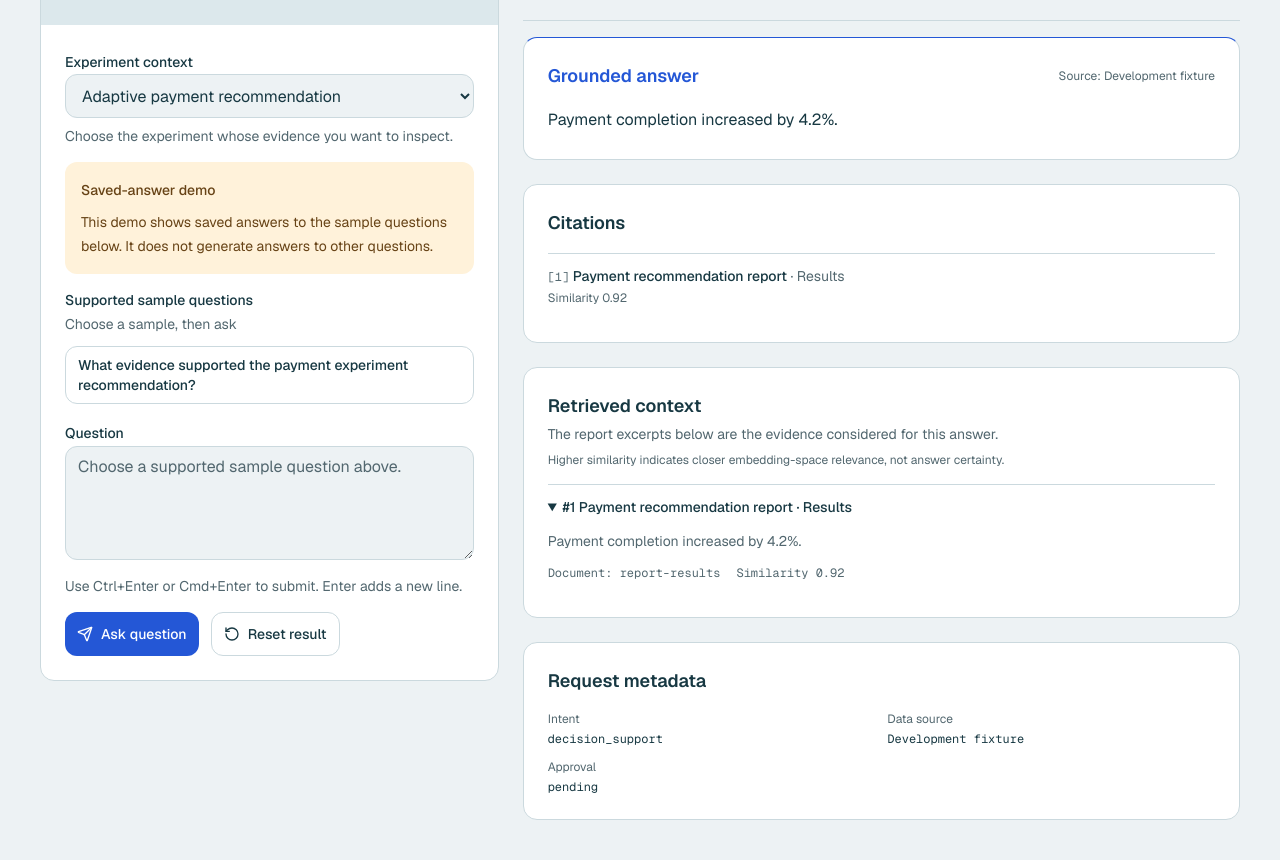
Test: AskExperimentWorkspace › renders answer evidence and clears it on reset
This screenshot has width=1280, height=860.
(page scrolled)
Expected: the text "Higher similarity indicates closer embedding-space relevance" is shown, x1=548 y1=452 x2=1004 y2=468
Expected: the text "Payment recommendation report" is shown, x1=573 y1=267 x2=787 y2=285
Click the button "Reset result": x=275, y=634 x1=211 y1=612 x2=340 y2=656
(page scrolled)
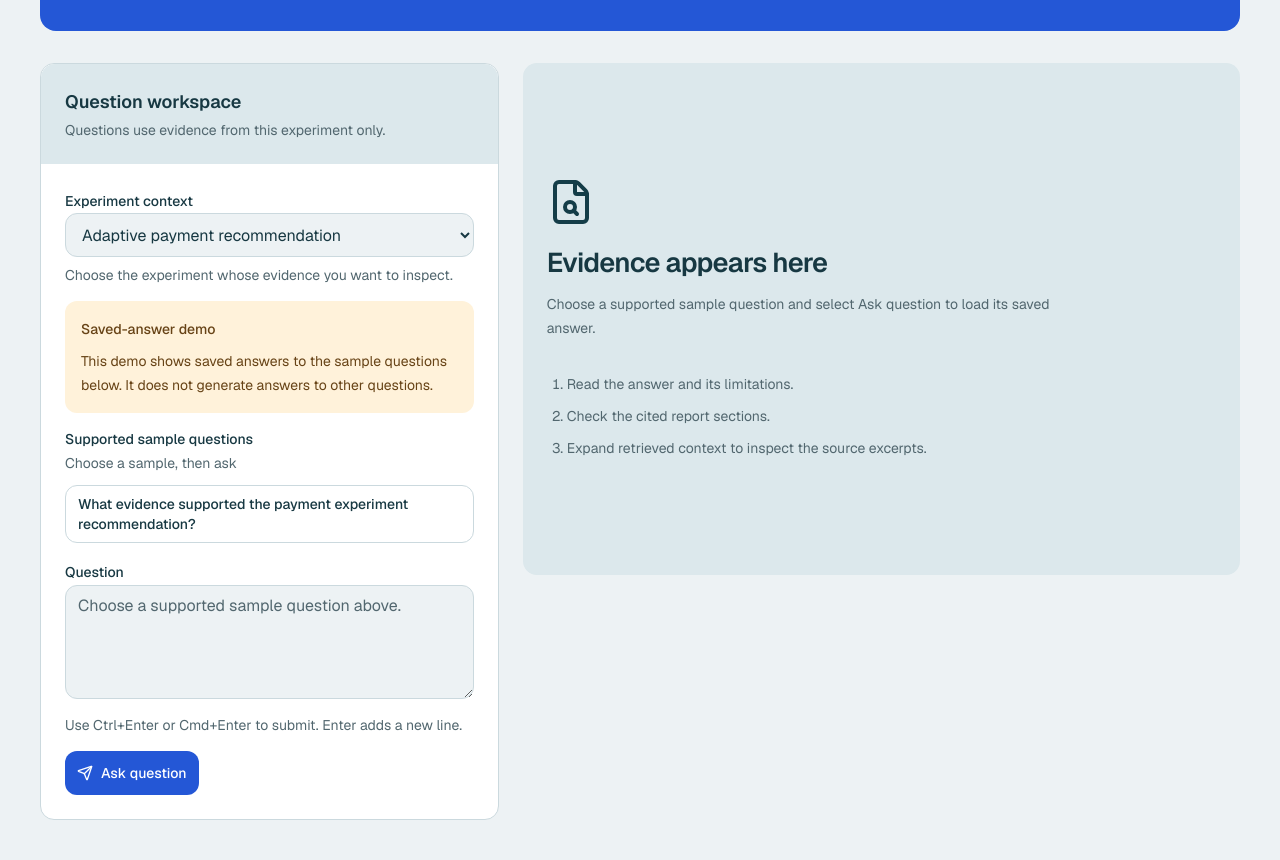
Result: the text "Payment completion increased by 4.2%." is gone
